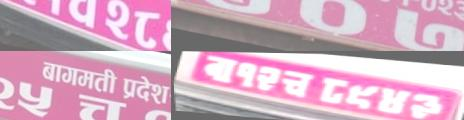0: (292, 0, 371, 40), (417, 0, 437, 11)
1: (227, 61, 261, 86), (136, 100, 171, 120), (31, 0, 66, 18), (390, 0, 412, 6)
2: (98, 0, 136, 42), (251, 64, 283, 92), (0, 70, 19, 111), (434, 0, 455, 15)
3: (400, 90, 447, 118), (452, 0, 464, 19)
4: (368, 84, 412, 114)
5: (12, 77, 55, 120)
6: (157, 7, 171, 51)
7: (384, 2, 464, 51), (188, 0, 278, 20)
8: (125, 0, 165, 51), (310, 75, 351, 103)
9: (337, 81, 383, 108)
ba: (196, 54, 240, 82), (38, 57, 64, 83)
cha: (69, 86, 129, 120), (58, 0, 105, 30), (271, 68, 315, 99)
